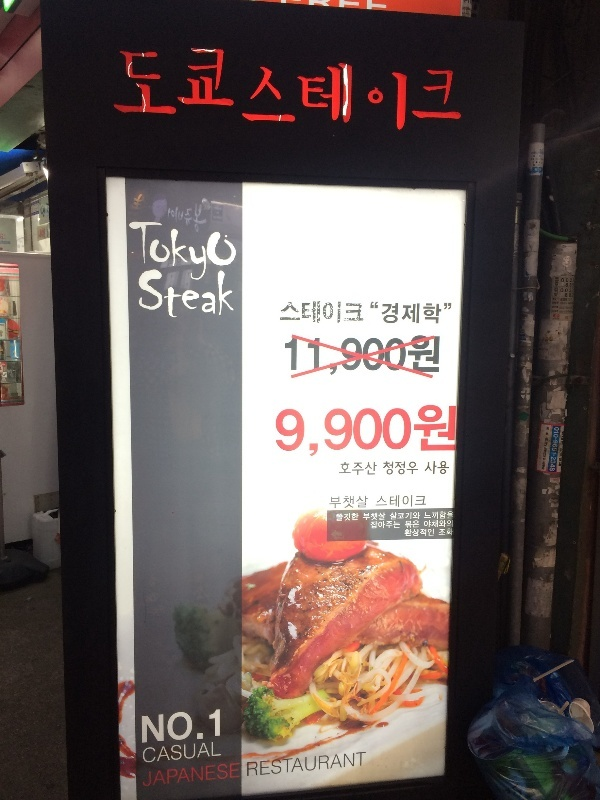text: (449, 41, 465, 132), (129, 41, 144, 132), (145, 41, 160, 132), (161, 41, 176, 132), (177, 41, 192, 132), (193, 41, 208, 132), (209, 41, 224, 132), (225, 41, 240, 132), (241, 41, 256, 132), (257, 41, 272, 132), (273, 41, 288, 132), (289, 41, 304, 132), (305, 41, 320, 132), (321, 41, 336, 132), (337, 41, 352, 132), (353, 41, 368, 132), (369, 41, 384, 132), (385, 41, 400, 132), (401, 41, 416, 132), (417, 41, 432, 132), (433, 41, 448, 132), (117, 41, 128, 132), (129, 218, 144, 284), (145, 218, 160, 284), (161, 218, 176, 284), (177, 218, 192, 284), (193, 218, 208, 284), (209, 218, 224, 284), (289, 404, 304, 458), (305, 404, 320, 458), (321, 404, 336, 458), (337, 404, 352, 458), (353, 404, 368, 458), (369, 404, 384, 458), (385, 404, 400, 458), (401, 404, 416, 458), (417, 404, 432, 458), (433, 404, 448, 458), (225, 218, 237, 284), (145, 268, 160, 319), (161, 268, 176, 319), (177, 268, 192, 319), (193, 268, 208, 319), (209, 268, 224, 319), (546, 424, 560, 475), (275, 404, 288, 458), (289, 333, 304, 376), (305, 333, 320, 376), (321, 333, 336, 376), (337, 333, 352, 376), (353, 333, 368, 376), (369, 333, 384, 376), (385, 333, 400, 376), (401, 333, 416, 376), (417, 333, 432, 376), (561, 276, 576, 318), (145, 709, 160, 747), (161, 709, 176, 747), (177, 709, 192, 747), (193, 709, 208, 747), (177, 203, 192, 238), (193, 203, 208, 238), (225, 268, 235, 319), (449, 404, 458, 458), (209, 709, 221, 747), (145, 761, 160, 791), (161, 761, 176, 791), (177, 761, 192, 791), (193, 761, 208, 791), (209, 761, 224, 791), (225, 761, 240, 791), (385, 299, 400, 327), (401, 299, 416, 327), (417, 299, 432, 327), (433, 299, 448, 327), (257, 751, 272, 778), (273, 751, 288, 778), (289, 751, 304, 778), (305, 751, 320, 778), (321, 751, 336, 778), (337, 751, 352, 778), (370, 299, 384, 327), (145, 740, 160, 766), (161, 740, 176, 766), (177, 740, 192, 766), (193, 740, 208, 766), (353, 751, 367, 778), (289, 301, 304, 323), (305, 301, 320, 323), (321, 301, 336, 323), (337, 301, 352, 323), (209, 740, 221, 766), (138, 268, 144, 319), (433, 333, 440, 376), (561, 424, 566, 475), (554, 276, 560, 318), (169, 203, 176, 238), (247, 751, 256, 778), (353, 301, 364, 323), (353, 461, 368, 476), (385, 461, 400, 475), (401, 461, 416, 475), (433, 461, 448, 475), (385, 495, 400, 508), (401, 495, 416, 508), (337, 496, 352, 509), (353, 496, 368, 509), (341, 461, 352, 476), (385, 521, 401, 530), (369, 512, 384, 521), (417, 528, 432, 537), (401, 512, 416, 521), (337, 513, 352, 522), (369, 461, 378, 476), (285, 333, 288, 376), (370, 521, 384, 530), (433, 520, 448, 528), (433, 511, 448, 519), (417, 495, 426, 508), (141, 709, 144, 747), (283, 301, 288, 323), (405, 528, 416, 537), (405, 520, 416, 529), (390, 512, 400, 521), (449, 299, 452, 327), (378, 495, 384, 508), (330, 496, 336, 509), (427, 461, 432, 475), (424, 520, 432, 528), (424, 511, 432, 519), (439, 529, 448, 536), (353, 513, 359, 522), (363, 512, 368, 521), (449, 511, 454, 519), (209, 203, 210, 238), (449, 520, 453, 528), (143, 761, 144, 791), (449, 529, 453, 536), (417, 520, 420, 529), (417, 512, 420, 521), (143, 740, 144, 766), (417, 461, 418, 475), (449, 461, 450, 475), (385, 512, 386, 521), (433, 528, 434, 537)
